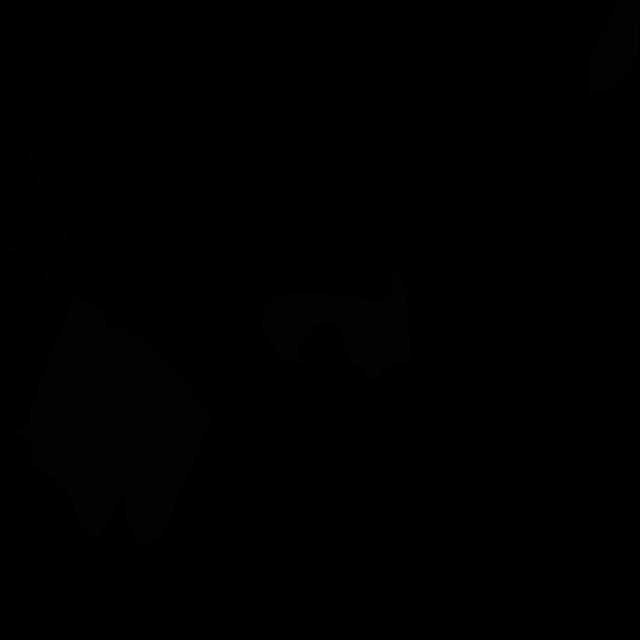cardboard: (16, 293, 212, 545), (260, 272, 412, 384), (587, 0, 640, 98)
rigid_plastic: (0, 116, 74, 286)
